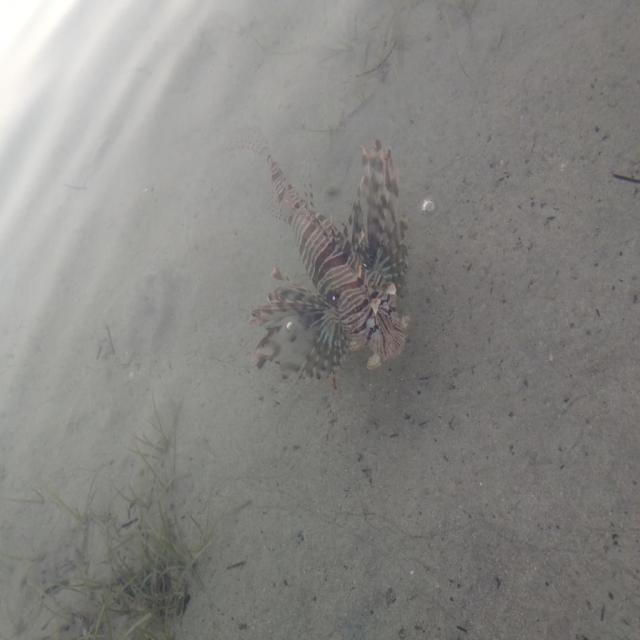Aslan Baligi: (246, 134, 412, 384)
